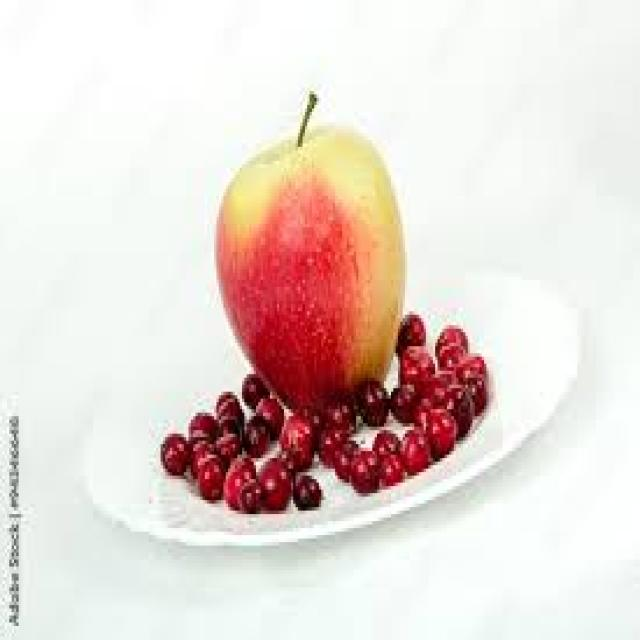non_orange: (164, 116, 437, 420)
